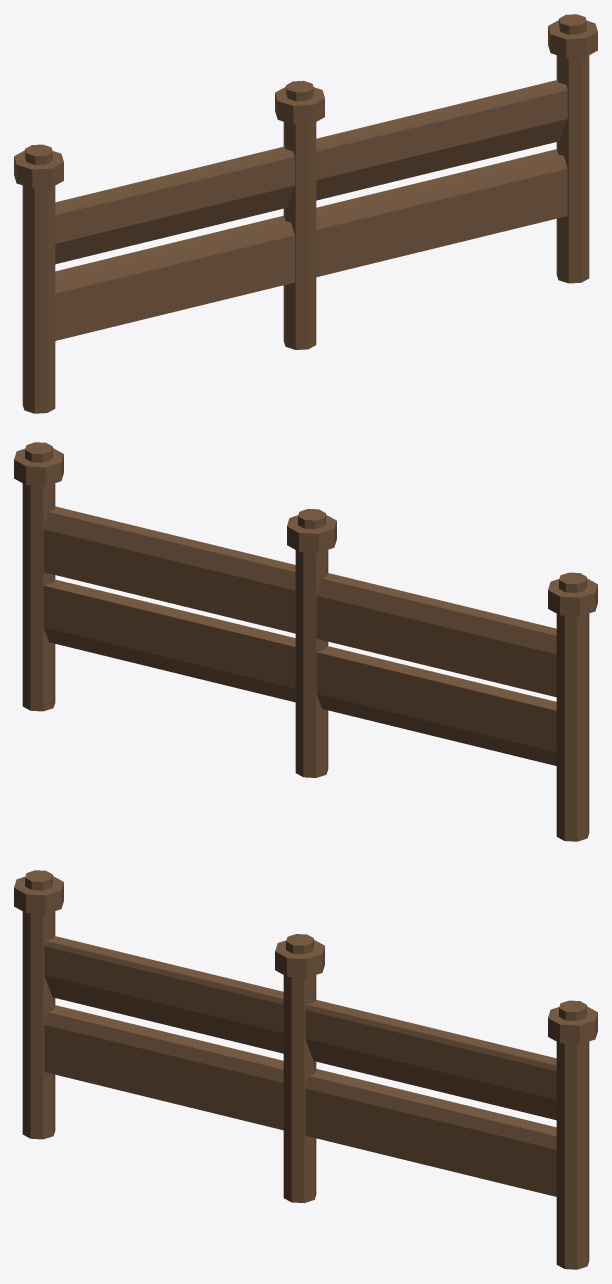
The model's file is fence.fbx.
3 renders of one model, top to bottom at view 1: azimuth 30°, elevation 25°; view 2: azimuth 150°, elevation 25°; view 3: azimuth 330°, elevation 25°, orthographic.
Parts seen in each view (by area): view 1: Fence_1, Fence_1_2; view 2: Fence_1, Fence_1_2; view 3: Fence_1, Fence_1_2.
Boxes of the visible parts, x1,y1,x2,y2 form: Fence_1: (14, 80, 324, 413); Fence_1_2: (316, 14, 597, 283); Fence_1: (287, 508, 597, 841); Fence_1_2: (14, 442, 295, 711); Fence_1: (14, 870, 324, 1203); Fence_1_2: (305, 999, 597, 1269).
Size of the model in its own units: 278 by 118 by 21.52.
